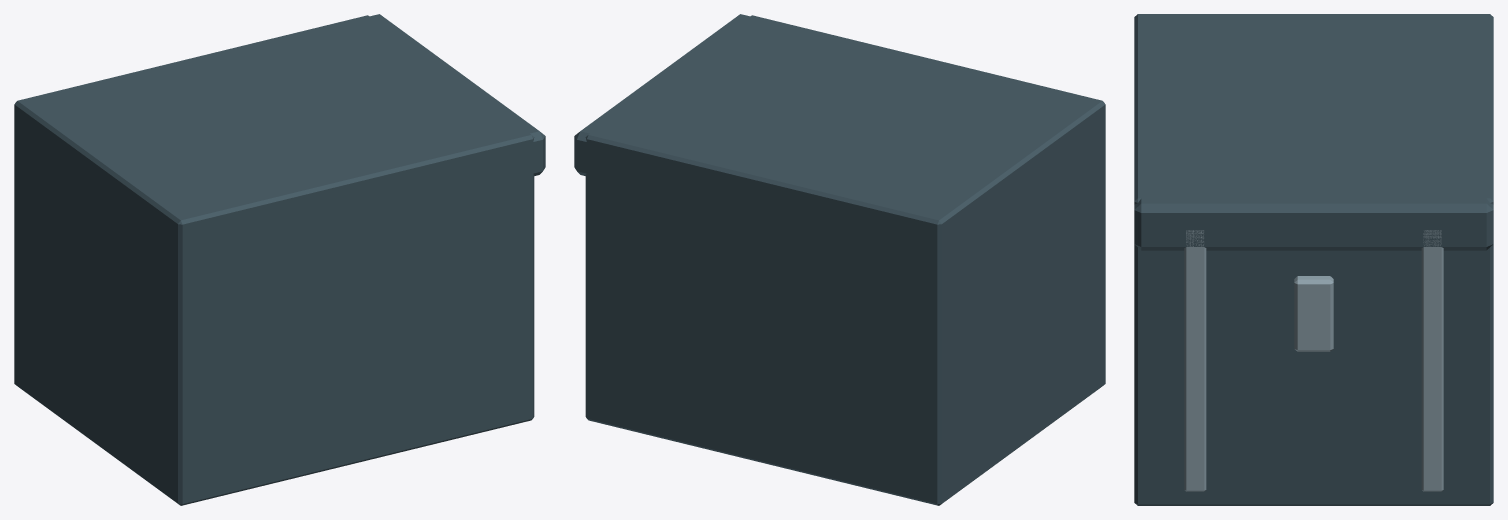
The model's file is coffre_couloir.glb.
The picture shows the model from 3 angles, left to right: view 1: azimuth 30°, elevation 25°; view 2: azimuth 150°, elevation 25°; view 3: azimuth 270°, elevation 25°; orthographic projection. The views are drawn at different scales.
Parts seen in each view (by area): view 1: coffre_couloir; view 2: coffre_couloir; view 3: coffre_couloir.
Part boxes in pixels (bbox=[...]): coffre_couloir: bbox=[14, 14, 545, 505]; coffre_couloir: bbox=[574, 14, 1105, 505]; coffre_couloir: bbox=[1134, 14, 1493, 505].
Size of the model in its own units: 1.15 by 0.85 by 0.9.
1 material, 1 textured.
